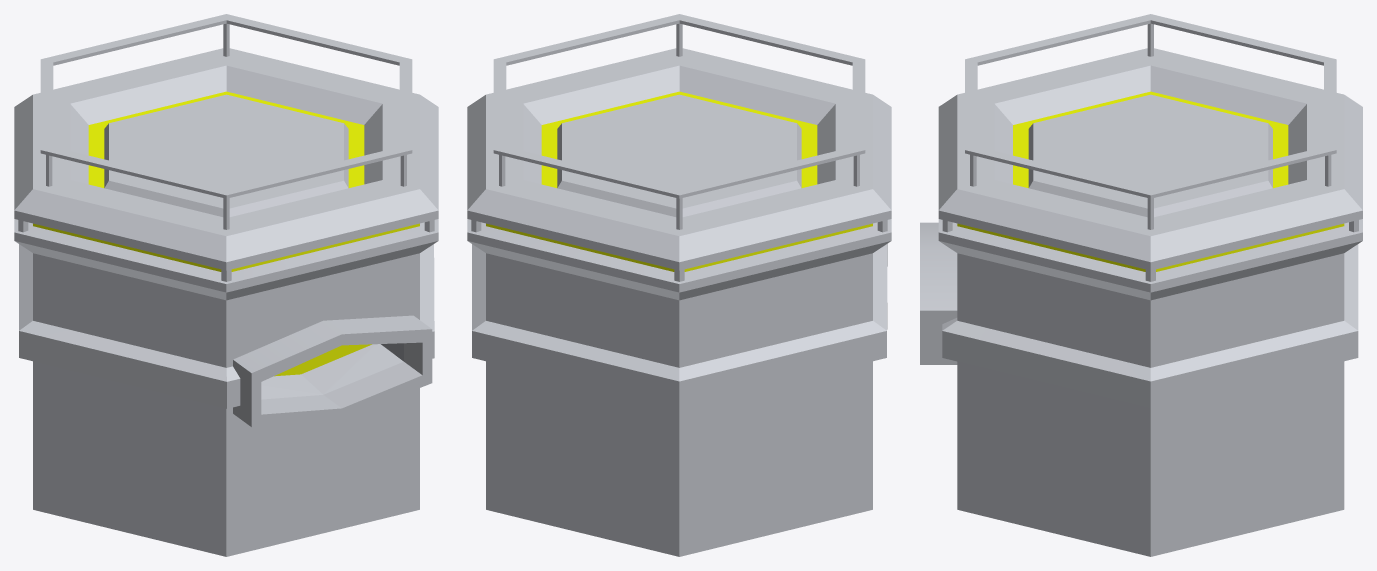
File: Tower.fbx
The picture shows the model from 3 angles, left to right: view 1: azimuth 30°, elevation 25°; view 2: azimuth 150°, elevation 25°; view 3: azimuth 270°, elevation 25°; orthographic projection.
Visible parts, largest first — view 1: mesh_tower; view 2: mesh_tower; view 3: mesh_tower.
Boxes of the visible parts, x1,y1,x2,y2 form: mesh_tower: [14, 14, 438, 556]; mesh_tower: [467, 14, 891, 556]; mesh_tower: [920, 14, 1362, 556].
Size of the model in its own units: 13.15 by 10.6 by 11.89.
